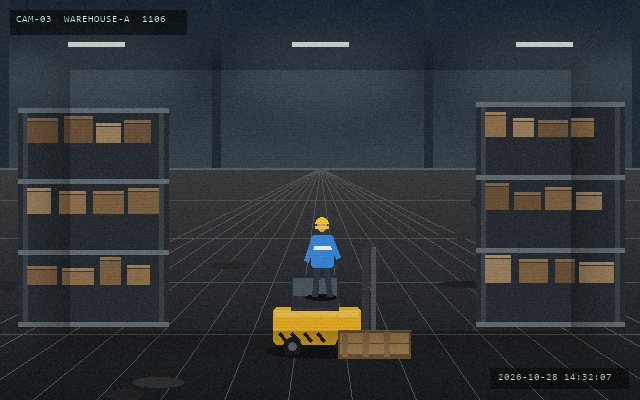forklift: (269, 245, 406, 358)
pallet: (336, 328, 412, 360)
person: (304, 216, 340, 299)
shelf: (476, 102, 624, 322), (18, 108, 168, 322)
